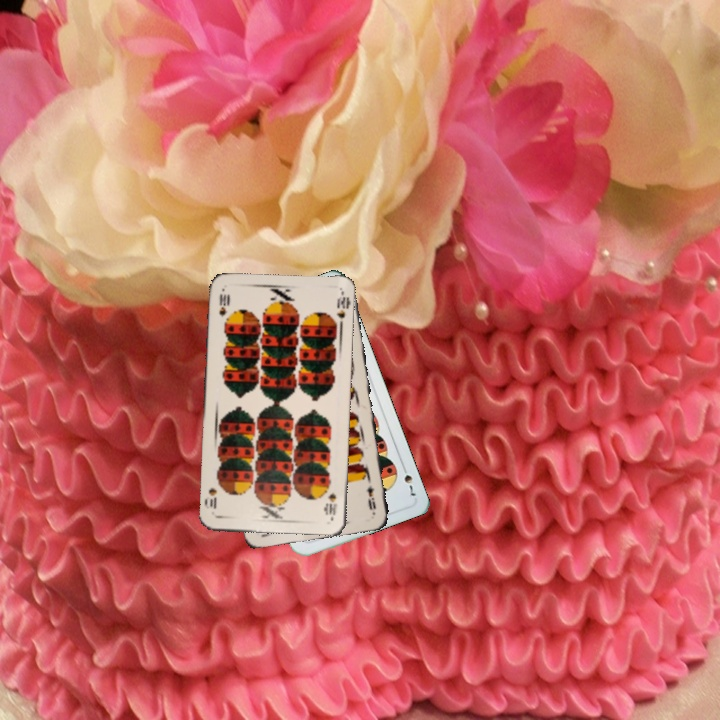E9: (362, 481, 378, 512)
S10: (323, 488, 340, 520), (215, 290, 230, 319)
S7: (398, 461, 418, 499)
